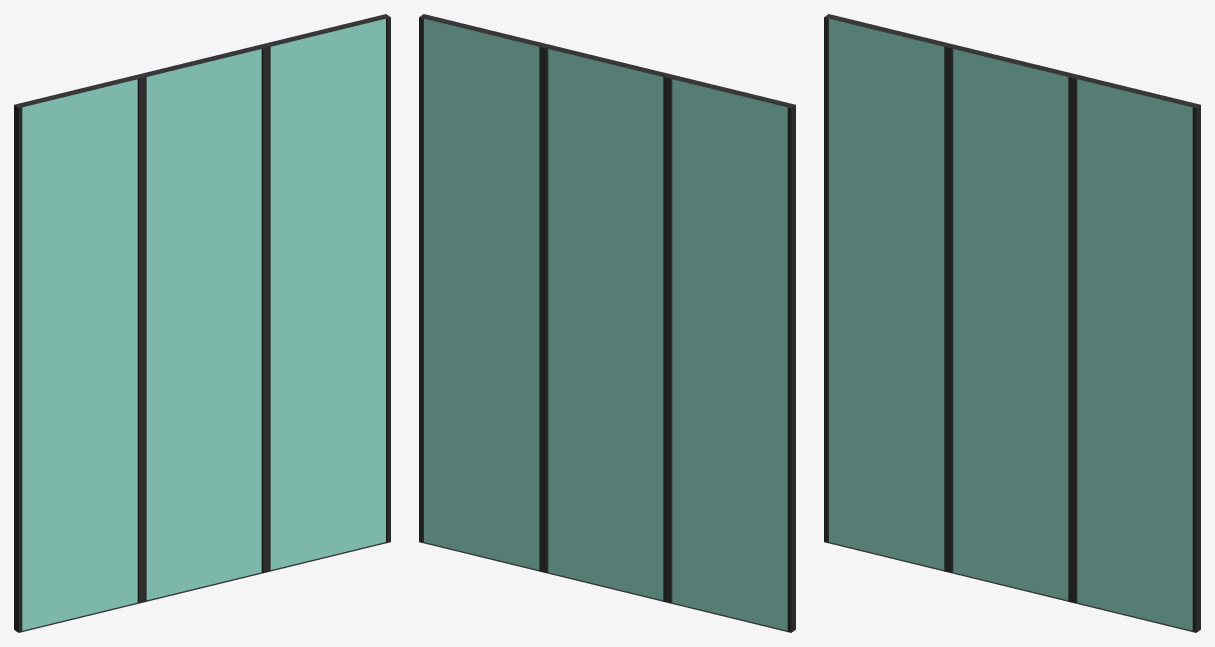
The model's file is FenetrePetite.glb.
3 renders of one model, left to right at view 1: azimuth 30°, elevation 25°; view 2: azimuth 150°, elevation 25°; view 3: azimuth 330°, elevation 25°, orthographic.
Visible parts, largest first — view 1: Cube; view 2: Cube; view 3: Cube.
Part boxes in pixels (x1,y1,x2,y2): Cube: (14, 14, 390, 632); Cube: (419, 14, 795, 632); Cube: (824, 14, 1200, 632).
Bounding box in the file's own units: 1.49 × 2 × 0.0327.
